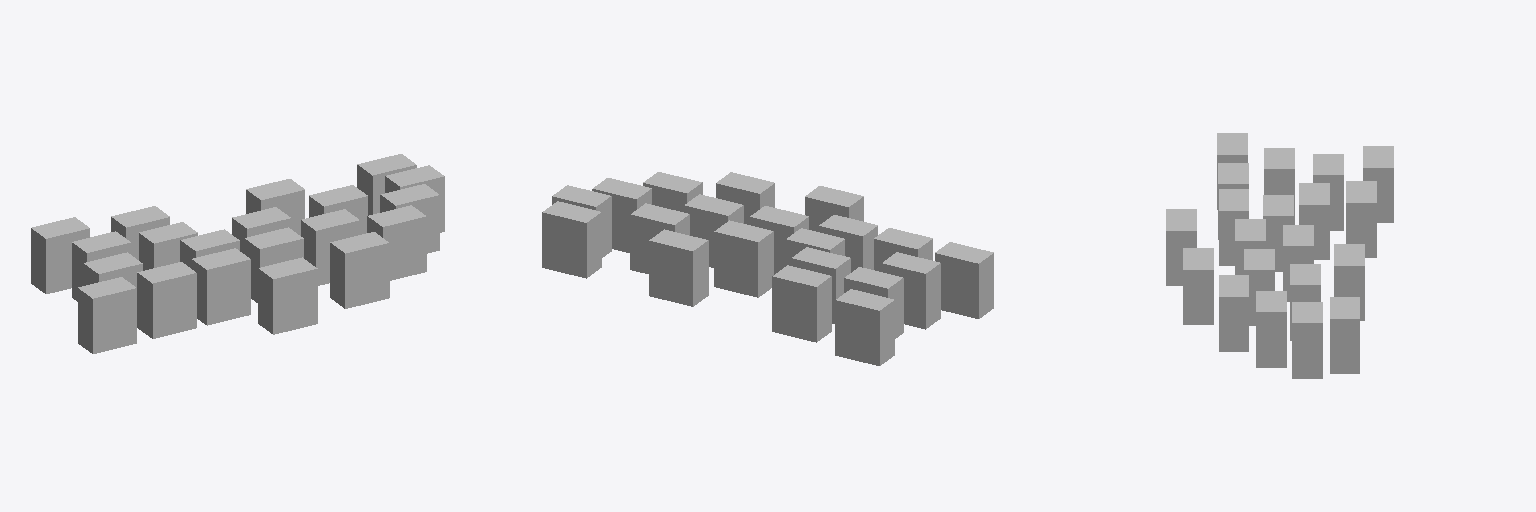
File: tree_group.obj
3 renders of one model, left to right at view 1: azimuth 30°, elevation 25°; view 2: azimuth 150°, elevation 25°; view 3: azimuth 270°, elevation 25°, orthographic.
Visible parts, largest first — view 1: tree_gorup12; view 2: tree_gorup12; view 3: tree_gorup12.
Part boxes in pixels (x1,y1,x2,y2): tree_gorup12: (31,154,444,353); tree_gorup12: (542,172,993,365); tree_gorup12: (1166,133,1393,378).
Size of the model in its own units: 43.99 by 6 by 22.22.